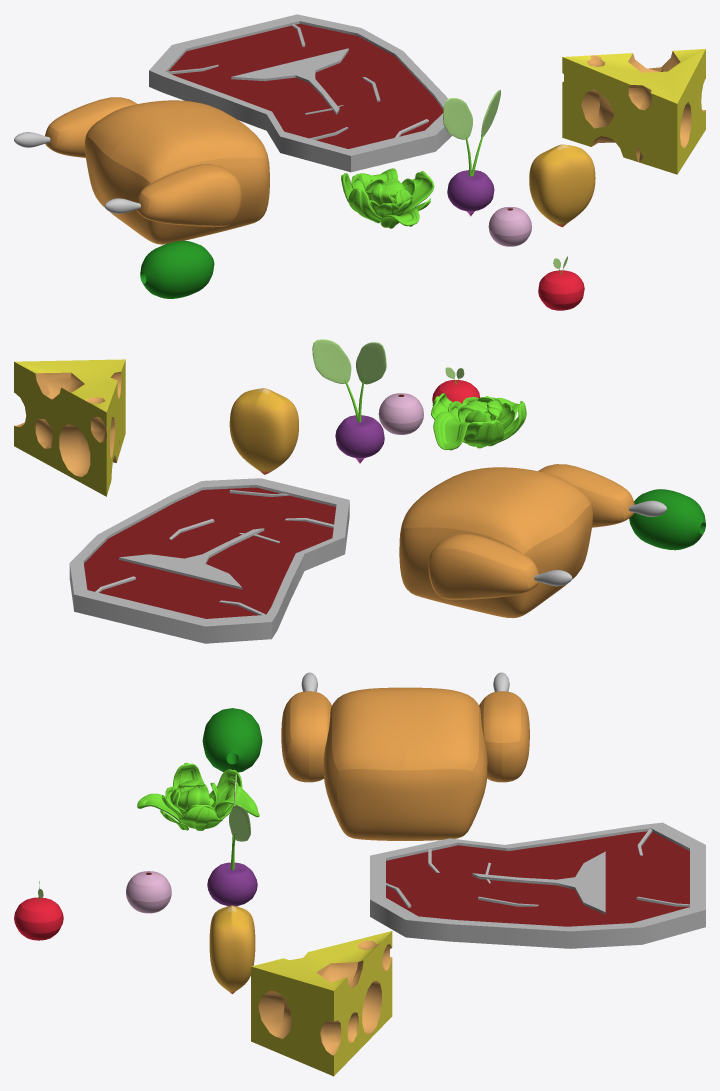
File: ingredientes 1.fbx
3 renders of one model, top to bottom at view 1: azimuth 30°, elevation 25°; view 2: azimuth 150°, elevation 25°; view 3: azimuth 270°, elevation 25°, orthographic. The views are drawn at different scales.
Parts seen in each view (by area): view 1: Ternera, Pollo, Queso, Maiz, Lechuga, Oliva, Remolacha, Remolacha.001, Cebolla; view 2: Ternera, Pollo, Queso, Maiz, Remolacha, Lechuga, Oliva, Cebolla, Remolacha.001; view 3: Ternera, Pollo, Queso, Lechuga, Maiz, Oliva, Remolacha, Remolacha.001, Cebolla.
Part boxes in pixels (box(x1,y1,x2,y2)): Ternera: box(149, 14, 451, 172); Pollo: box(14, 97, 269, 244); Queso: box(562, 49, 705, 174); Maiz: box(529, 144, 595, 227); Lechuga: box(341, 168, 434, 228); Oliva: box(140, 240, 214, 298); Remolacha: box(443, 89, 500, 216); Remolacha.001: box(538, 256, 584, 310); Cebolla: box(488, 206, 531, 246); Ternera: box(69, 478, 349, 643); Pollo: box(399, 464, 666, 618); Queso: box(14, 359, 125, 496); Maiz: box(229, 388, 298, 474); Remolacha: box(312, 339, 386, 463); Lechuga: box(431, 393, 526, 450); Oliva: box(629, 489, 705, 550); Cebolla: box(378, 393, 423, 434); Remolacha.001: box(432, 367, 479, 403); Ternera: box(370, 822, 705, 948); Pollo: box(281, 672, 529, 840); Queso: box(251, 931, 392, 1076); Lechuga: box(137, 762, 259, 830); Maiz: box(209, 905, 255, 994); Oliva: box(202, 708, 262, 772); Remolacha: box(207, 773, 257, 906); Remolacha.001: box(14, 881, 63, 940); Cebolla: box(126, 871, 171, 913).
Bounding box in the file's own units: 5326 × 1285 × 4918.
